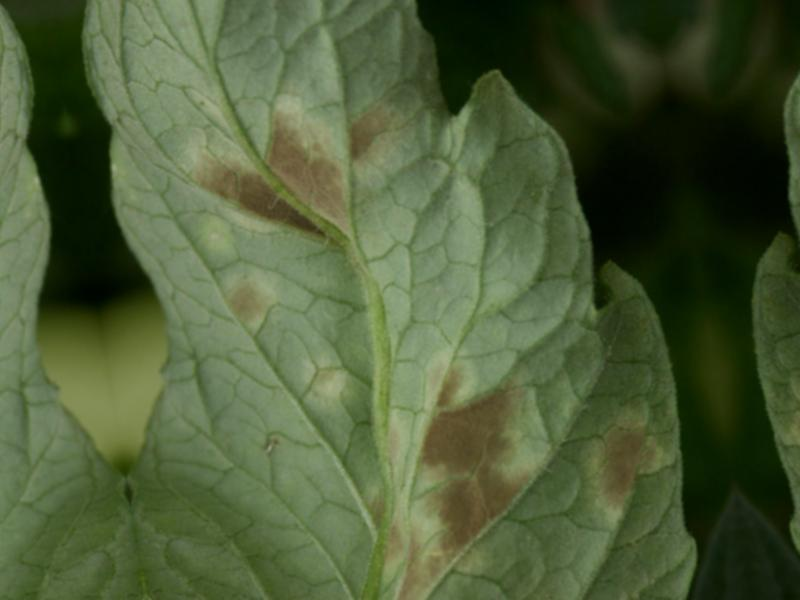Tomato mold leaf: (49, 0, 737, 600)
